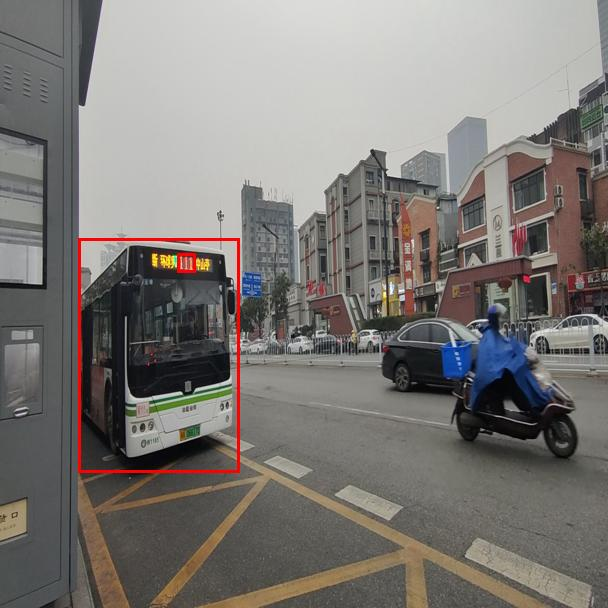bus: (78, 238, 239, 472)
screen: (177, 253, 195, 272)
